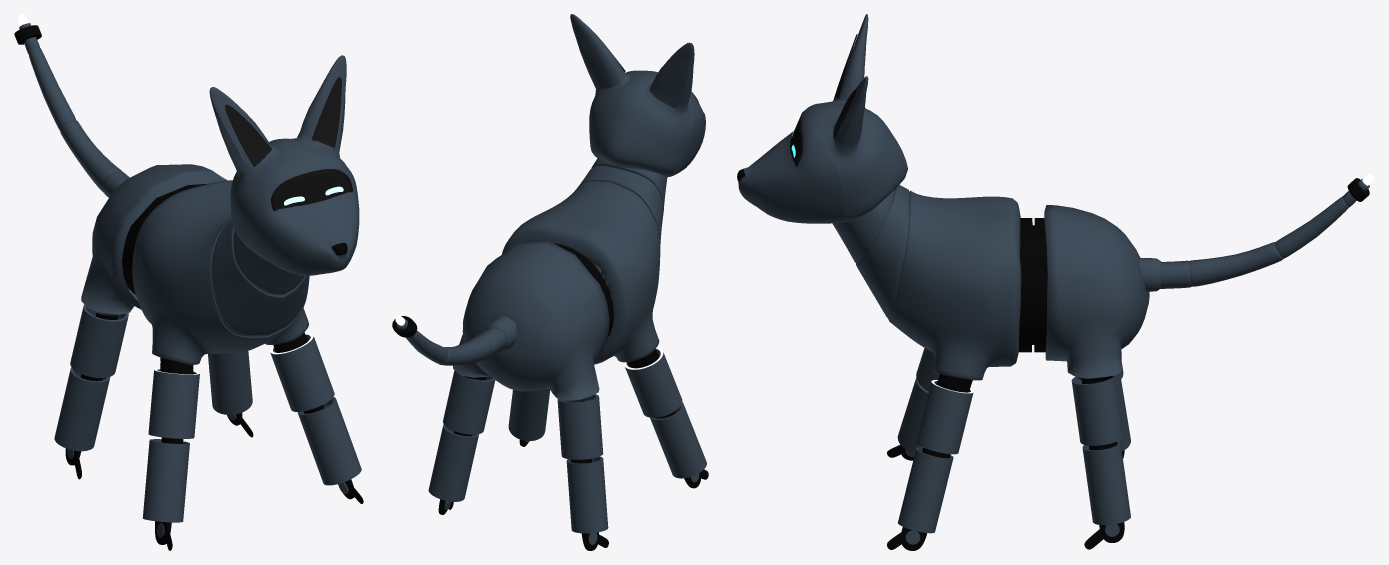
Rendered from Robot_dog.gltf.
3 renders of one model, left to right at view 1: azimuth 30°, elevation 25°; view 2: azimuth 150°, elevation 25°; view 3: azimuth 270°, elevation 25°, orthographic. The views are drawn at different scales.
Visible parts, largest first — view 1: Body, Head, Legs, Back Leg, Back, Tail, Plane.005, Plane.003, Joint; view 2: Back, Body, Head, Back Leg, Legs, Tail, Joint, Cube; view 3: Body, Head, Back, Legs, Back Leg, Tail, Joint.
Part boxes in pixels (box(x1,y1,x2,y2)): Body: box(132, 180, 309, 374); Head: box(209, 55, 359, 275); Legs: box(142, 333, 363, 550); Back Leg: box(54, 304, 253, 479); Back: box(81, 164, 227, 315); Tail: box(14, 14, 129, 197); Plane.005: box(225, 77, 341, 167); Plane.003: box(271, 169, 352, 210); Joint: box(122, 183, 208, 294); Back: box(453, 241, 609, 402); Body: box(501, 158, 667, 368); Head: box(570, 14, 705, 177); Back Leg: box(428, 370, 608, 550); Legs: box(508, 347, 708, 488); Tail: box(392, 315, 505, 365); Joint: box(554, 243, 613, 338); Cube: box(486, 316, 517, 349); Body: box(832, 185, 1021, 392); Head: box(737, 14, 907, 223); Back: box(1044, 205, 1149, 381); Legs: box(887, 348, 973, 550); Back Leg: box(1071, 362, 1130, 549); Tail: box(1160, 173, 1374, 288); Joint: box(1019, 218, 1047, 352).
Size of the model in its own units: 3.63 by 7.6 by 9.5.
